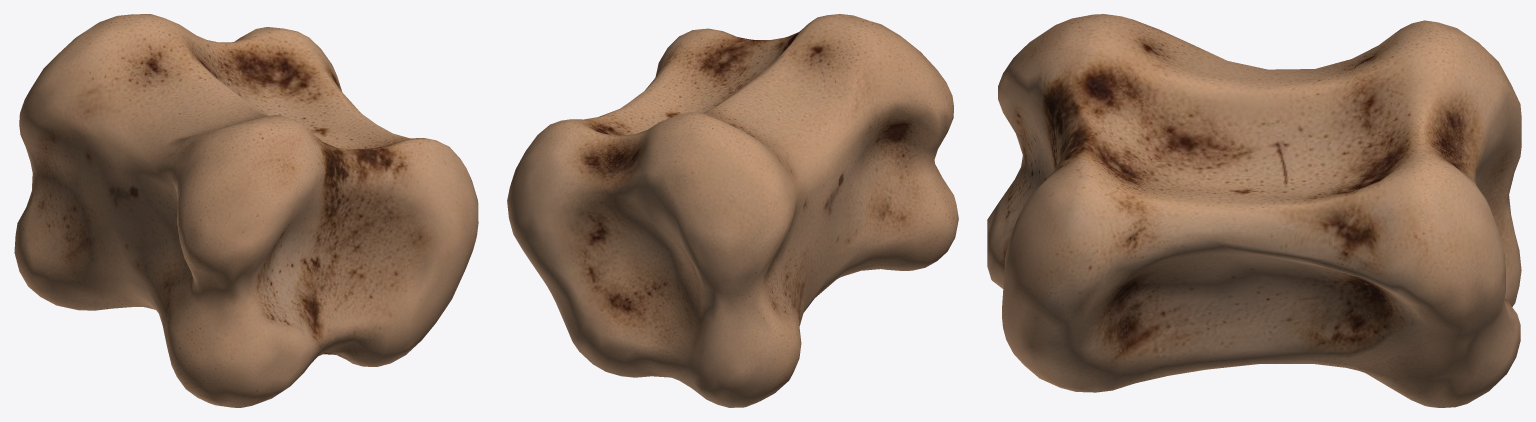
Rendered from Chuko_4435_Meshy_mobile.glb.
The picture shows the model from 3 angles, left to right: view 1: azimuth 30°, elevation 25°; view 2: azimuth 150°, elevation 25°; view 3: azimuth 270°, elevation 25°; orthographic projection. The views are drawn at different scales.
Parts seen in each view (by area): view 1: Mesh_0.001; view 2: Mesh_0.001; view 3: Mesh_0.001.
Boxes of the visible parts, x1=… form: Mesh_0.001: x1=14, y1=14, x2=478, y2=407; Mesh_0.001: x1=507, y1=14, x2=958, y2=407; Mesh_0.001: x1=987, y1=14, x2=1521, y2=407.
Bounding box in the file's own units: 0.0396 × 0.035 × 0.0509.
1 material, 1 textured.
